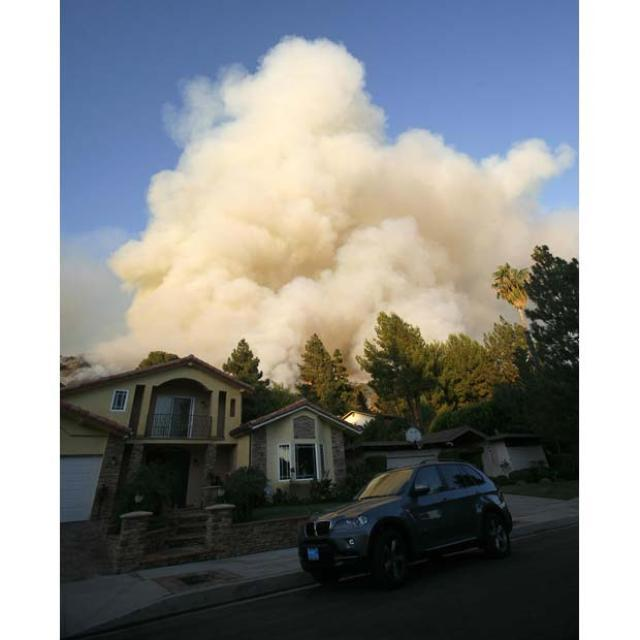Smoke: (110, 29, 528, 374)
